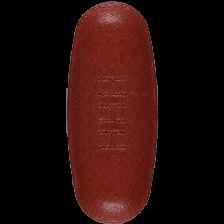0078-0315: (0, 0, 224, 224)
